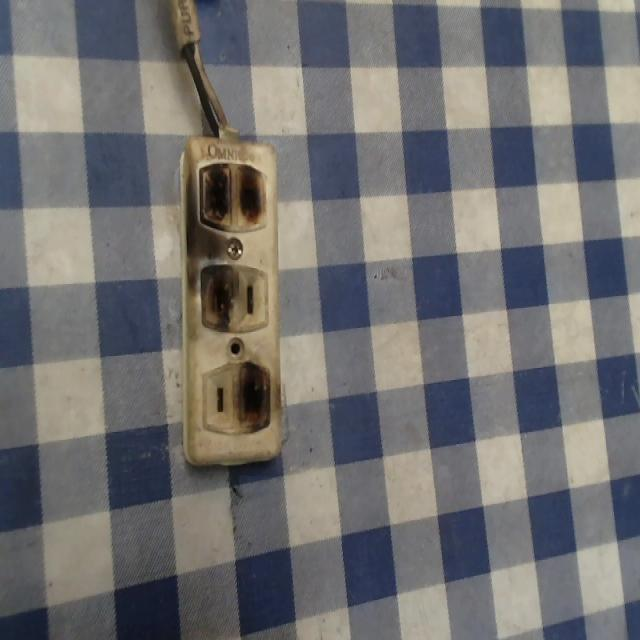-: (184, 154, 274, 238), (231, 349, 271, 442), (197, 256, 237, 332)
